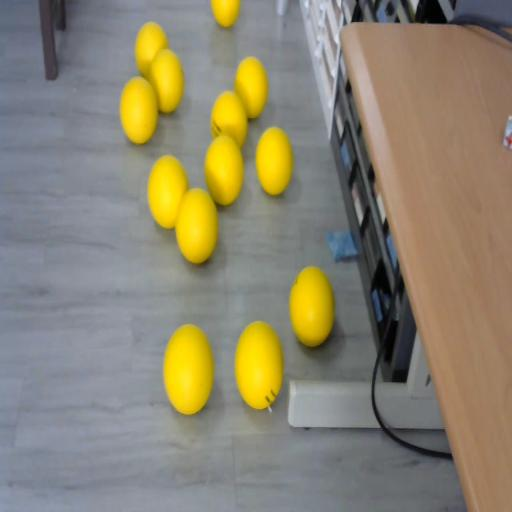FUEL: (162, 323, 214, 414), (234, 320, 284, 410), (288, 264, 335, 347), (174, 186, 219, 265), (147, 154, 188, 229), (204, 134, 245, 206), (254, 124, 294, 195), (120, 77, 158, 144), (150, 48, 184, 114), (234, 56, 268, 119), (210, 0, 241, 28)
